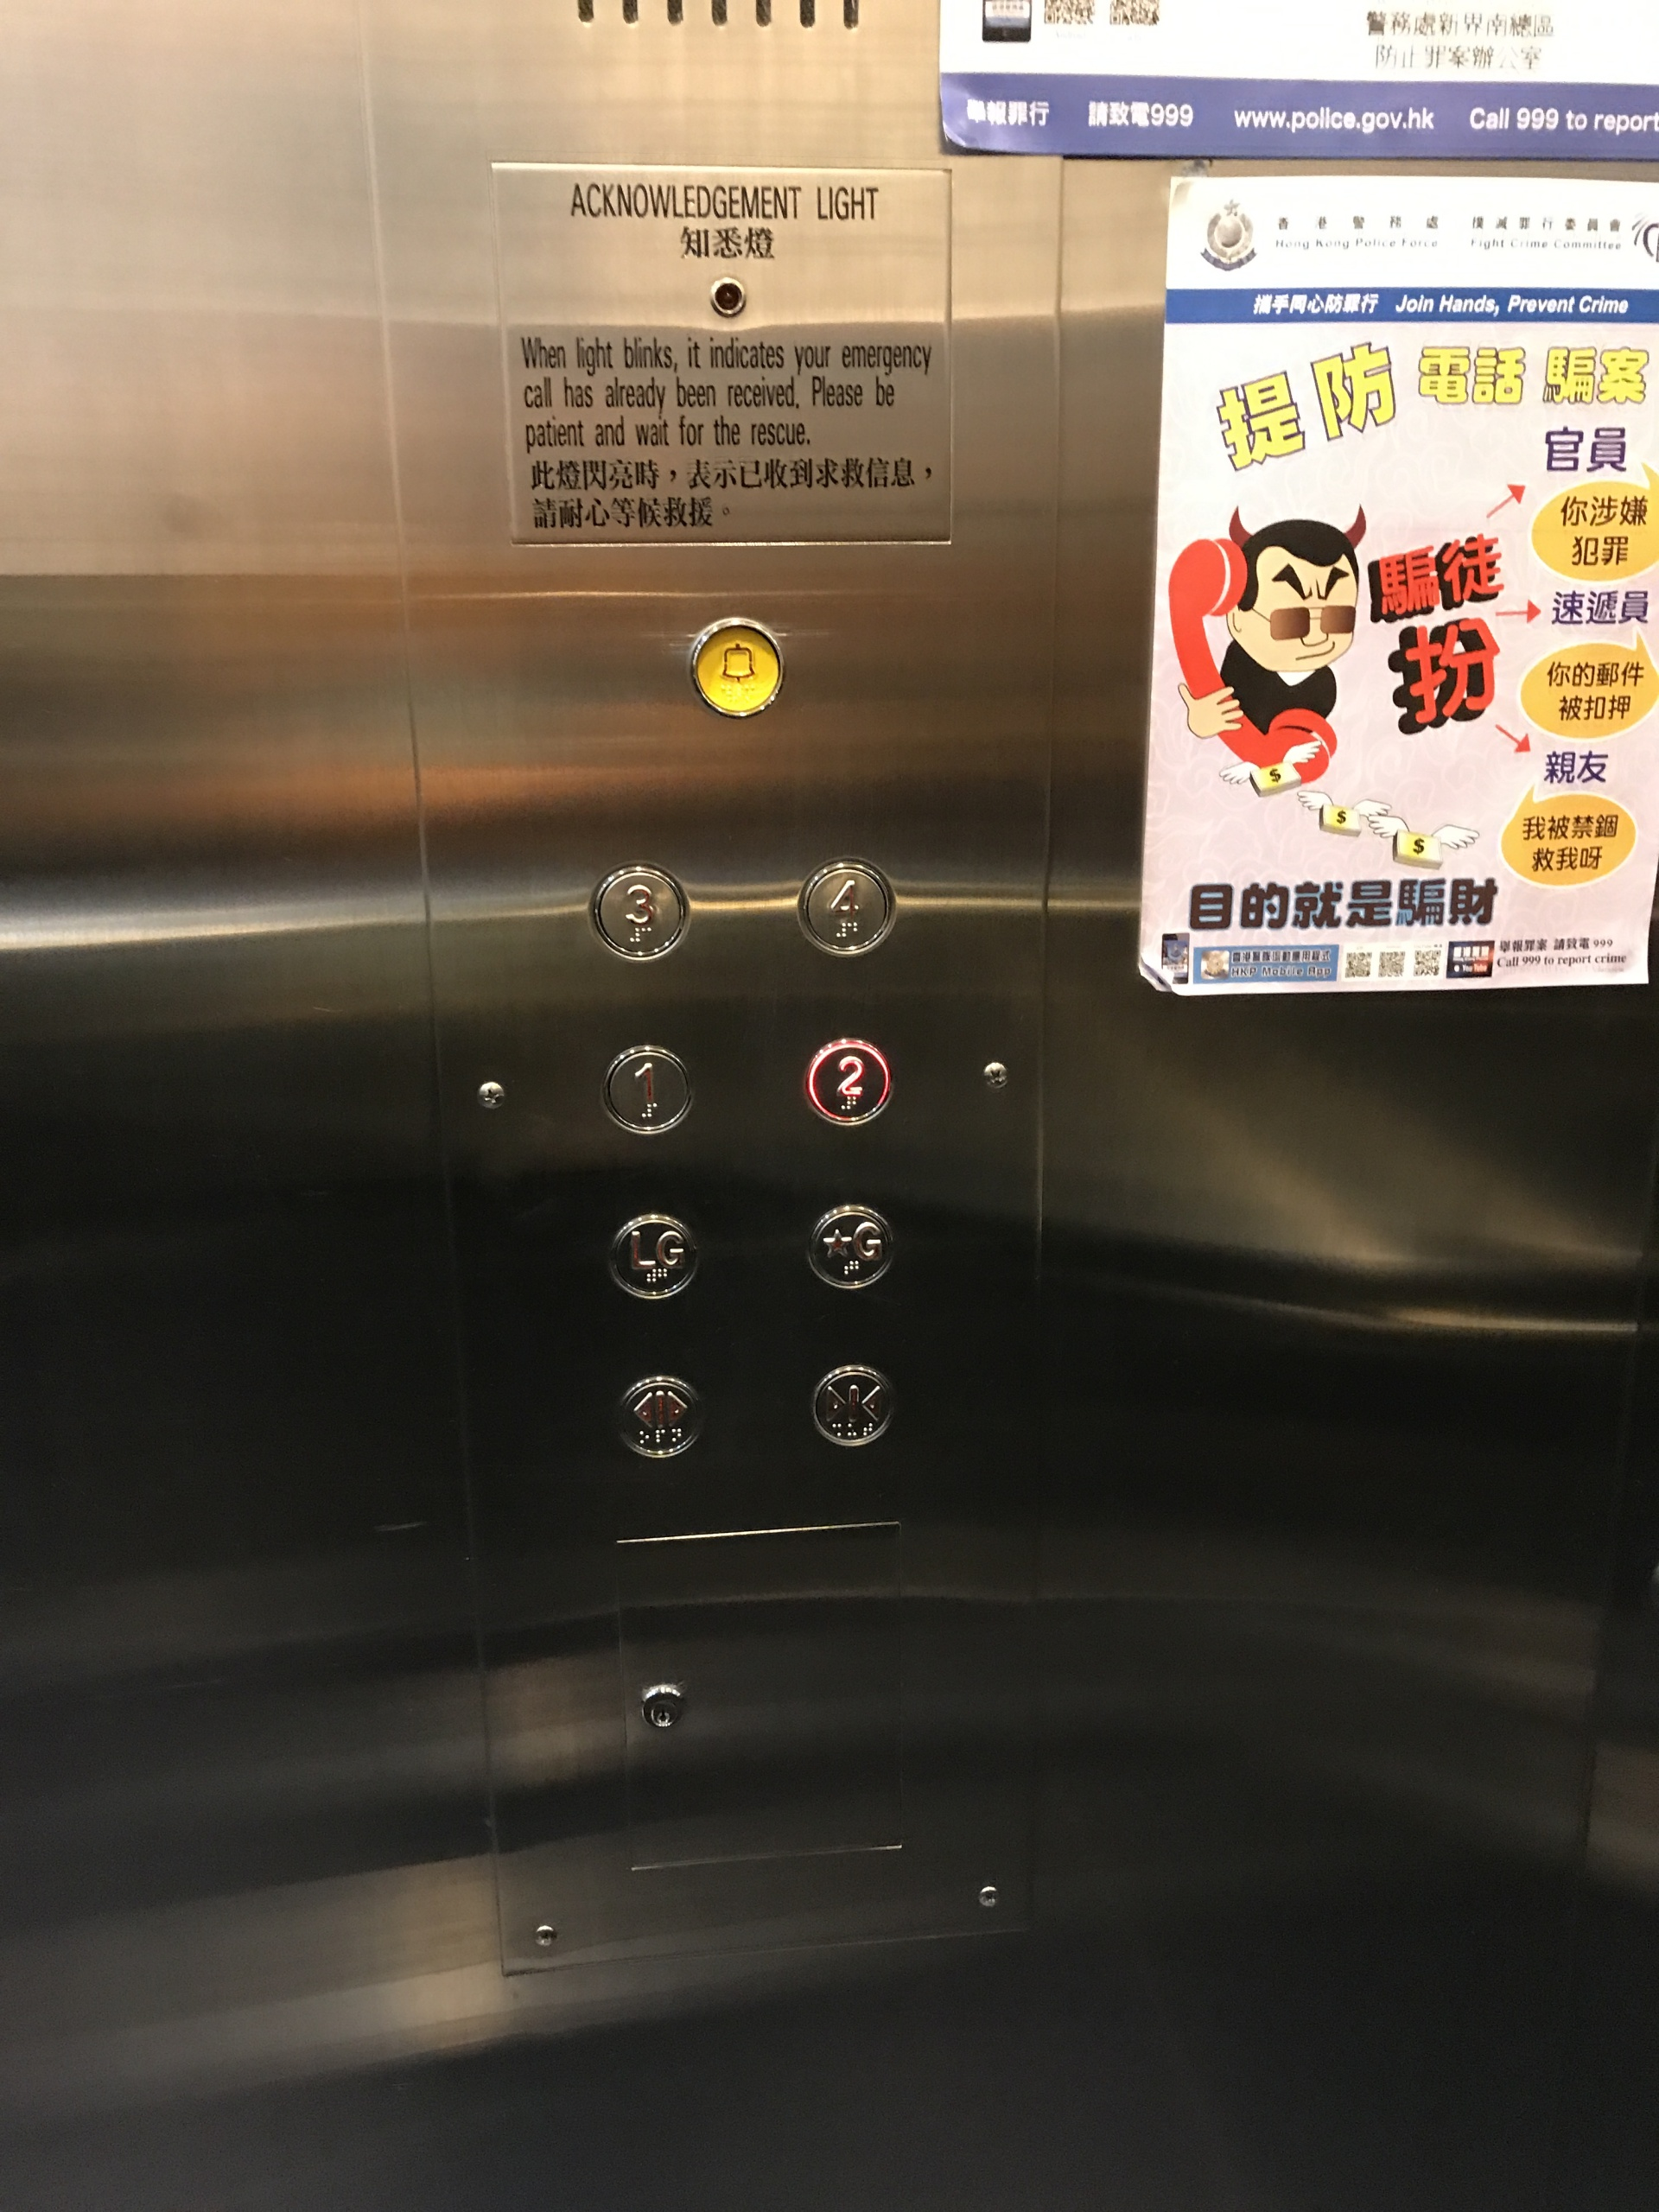1: (601, 1043, 695, 1134)
2: (802, 1036, 896, 1127)
3: (589, 862, 688, 961)
4: (795, 857, 896, 956)
LG: (603, 1209, 699, 1299)
alarm: (690, 615, 788, 719)
close: (805, 1359, 901, 1449)
open: (612, 1371, 708, 1461)
sG: (803, 1202, 897, 1292)
